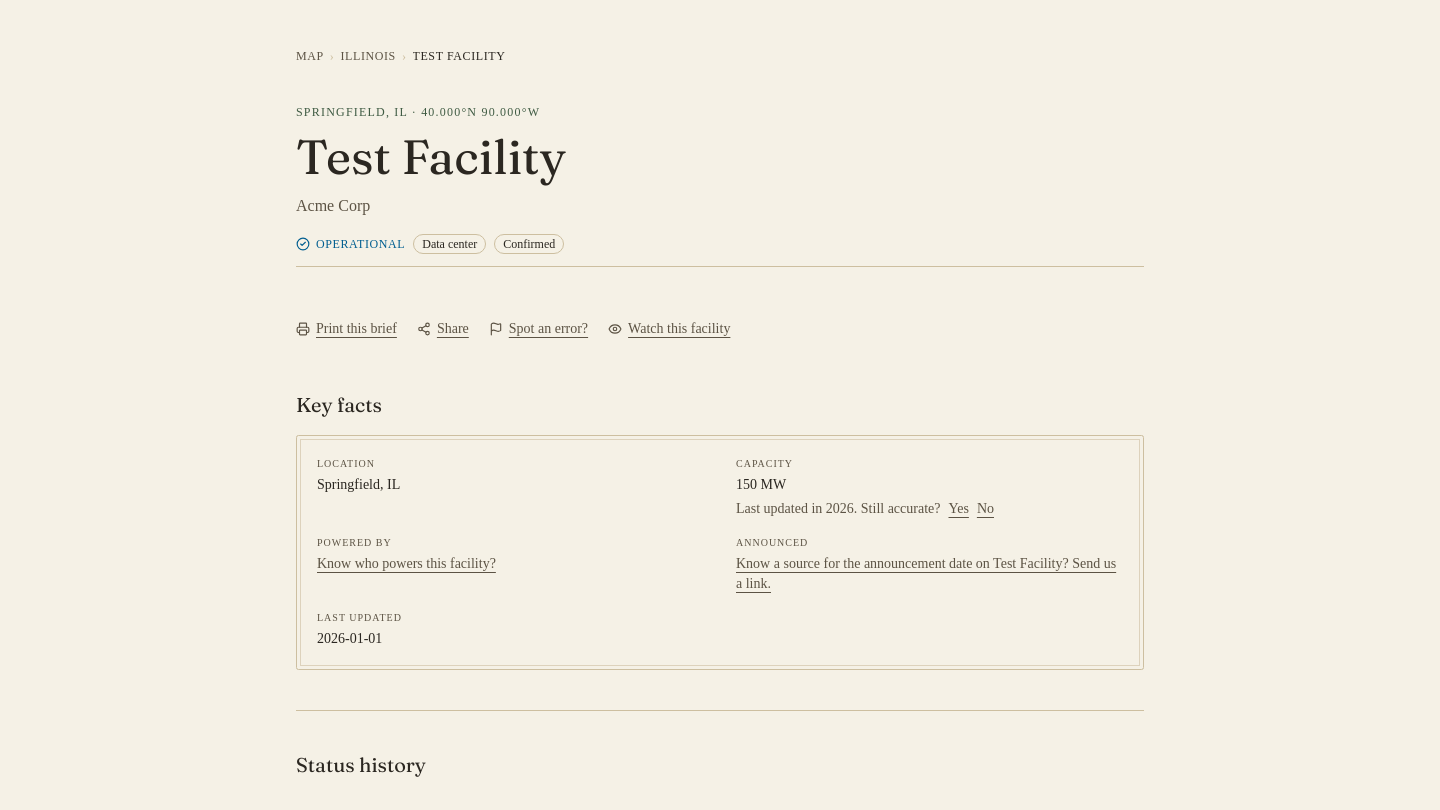
Test: FacilityPage — correction dialogs › 'No' on an operational capacity corrects operational capacity, and shows its current value
Click the button with aria-label "No, the capacity needs a correction" at (985,509), box left=977, top=499, right=994, bottom=519
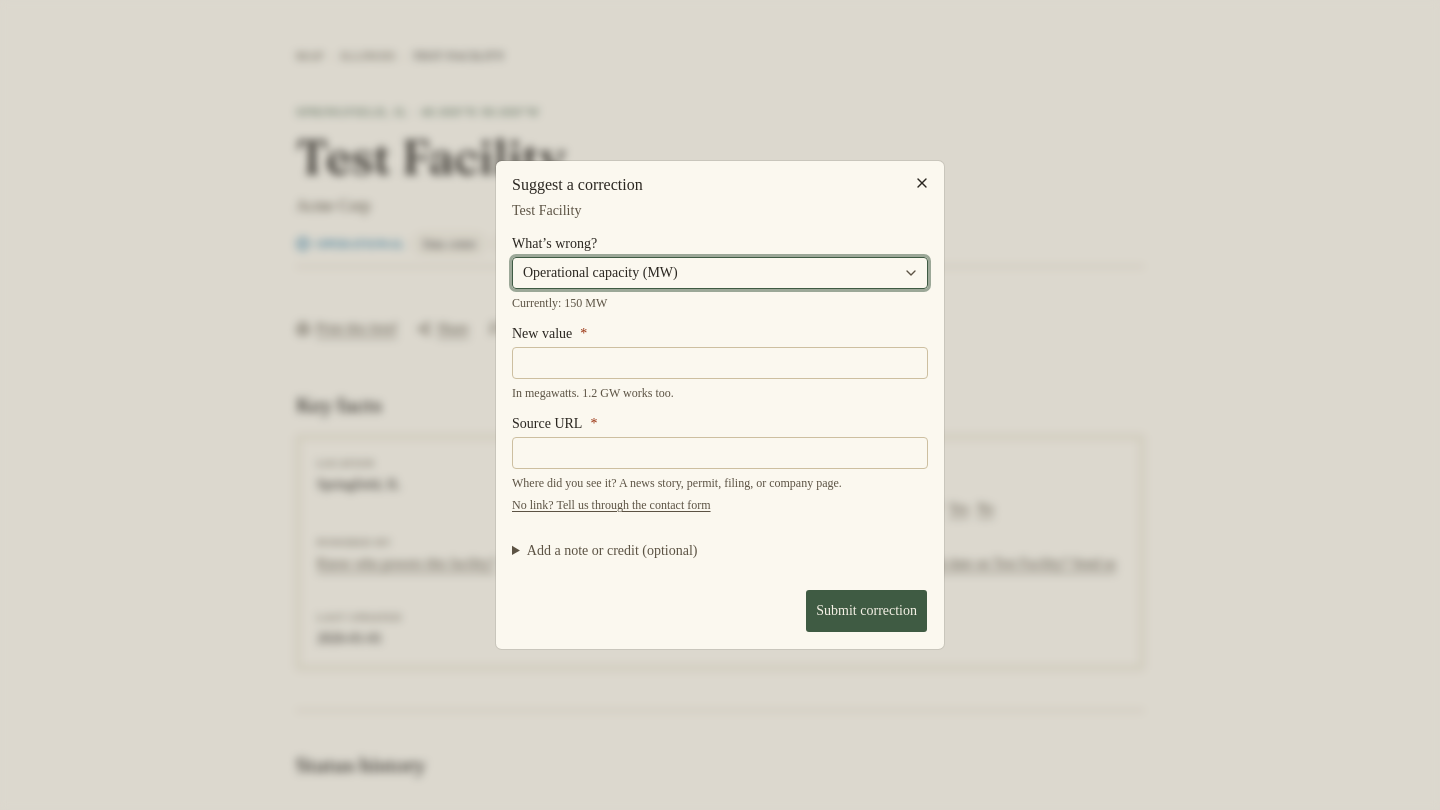
Result: the dropdown named "what.s wrong" shows "Operational capacity (MW)" at left=512, top=257, right=928, bottom=289
Result: the text "Currently: 150 MW" is shown at left=512, top=296, right=607, bottom=310
